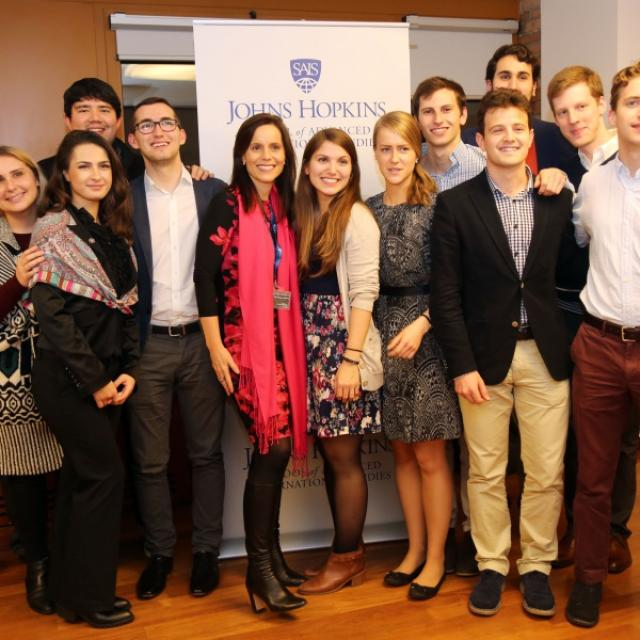body: (410, 76, 577, 580), (429, 86, 582, 616), (19, 126, 152, 627), (191, 110, 312, 613), (125, 95, 229, 598), (363, 109, 465, 604), (545, 63, 639, 577), (545, 64, 639, 574), (296, 126, 390, 600), (0, 143, 71, 621), (461, 42, 577, 168), (33, 75, 148, 197)
